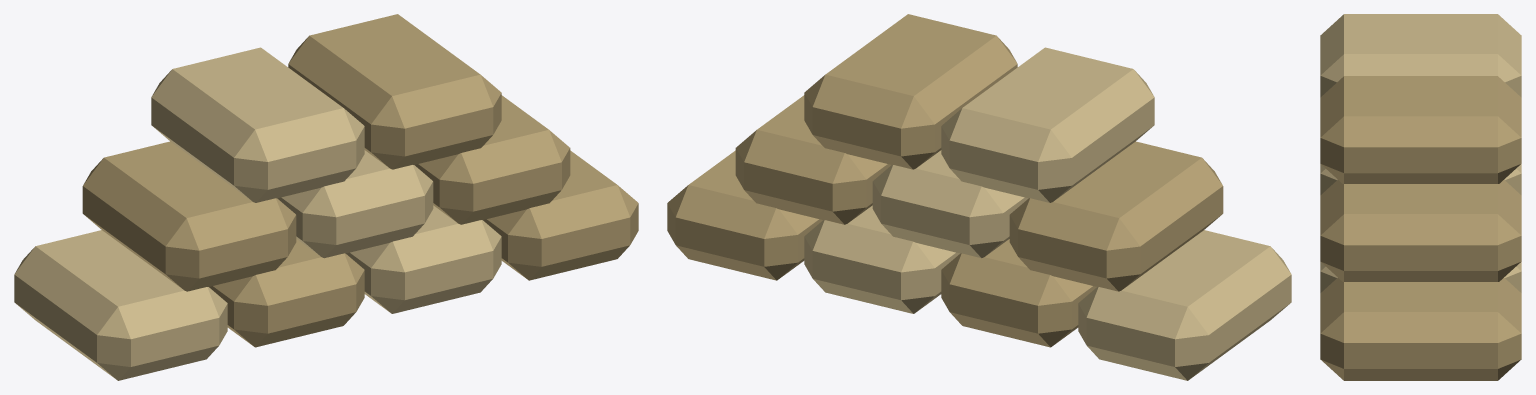
Rendered from env_r1_sandbag_wall.glb.
The picture shows the model from 3 angles, left to right: view 1: azimuth 30°, elevation 25°; view 2: azimuth 150°, elevation 25°; view 3: azimuth 270°, elevation 25°; orthographic projection. The views are drawn at different scales.
Parts seen in each view (by area): view 1: env_r1_sandbag_wall; view 2: env_r1_sandbag_wall; view 3: env_r1_sandbag_wall.
Boxes of the visible parts, left/top/right/bottom form: env_r1_sandbag_wall: left=14, top=14, right=638, bottom=380; env_r1_sandbag_wall: left=667, top=14, right=1291, bottom=380; env_r1_sandbag_wall: left=1320, top=14, right=1521, bottom=380.
Size of the model in its own units: 2.6 by 1 by 0.9.
1 material, 1 textured.
